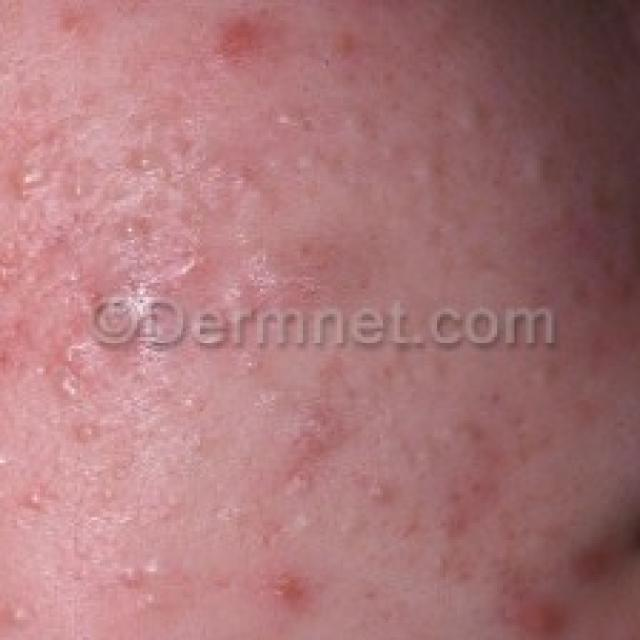Acne: (0, 0, 596, 603)
